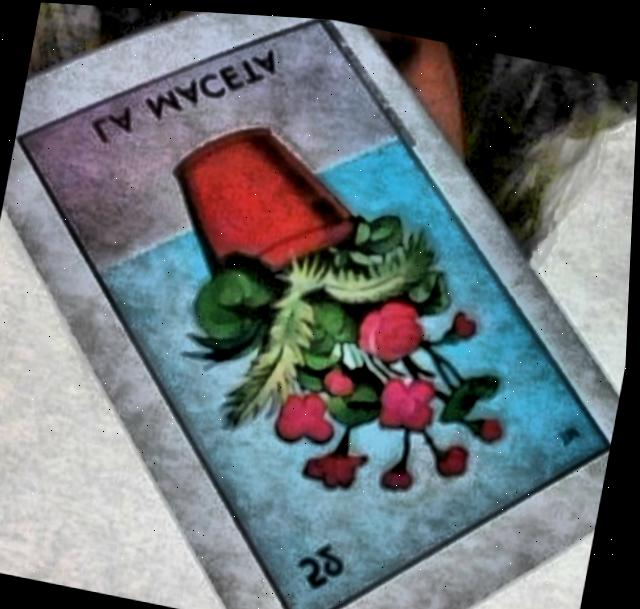La Maceta: (23, 19, 609, 609)
